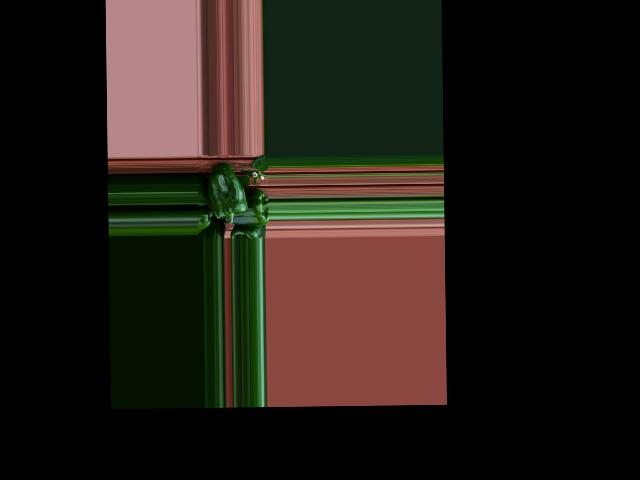bell_pepper: (196, 209, 214, 236)
